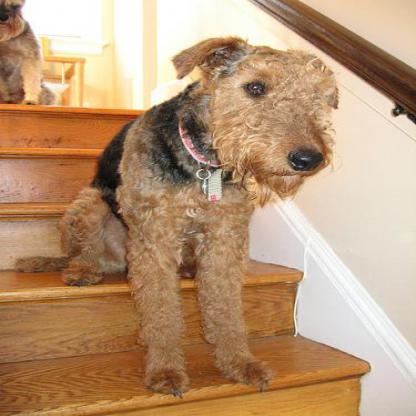dog: (84, 30, 355, 395)
